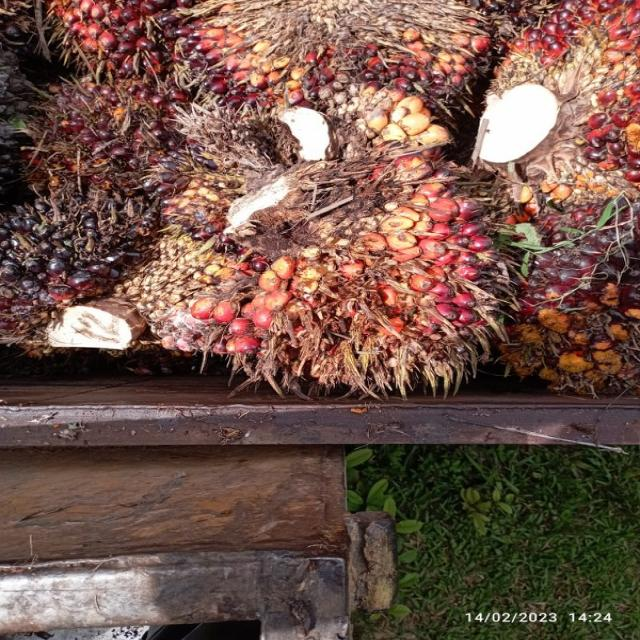fraksi 4: (120, 117, 538, 457)
